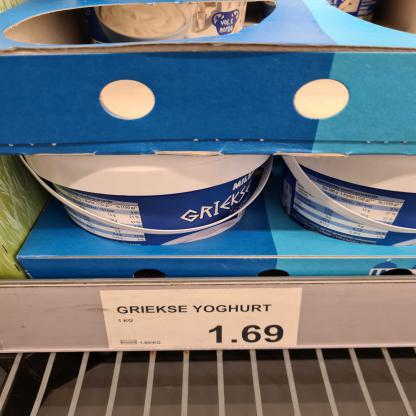prtg: (100, 289, 304, 351)
